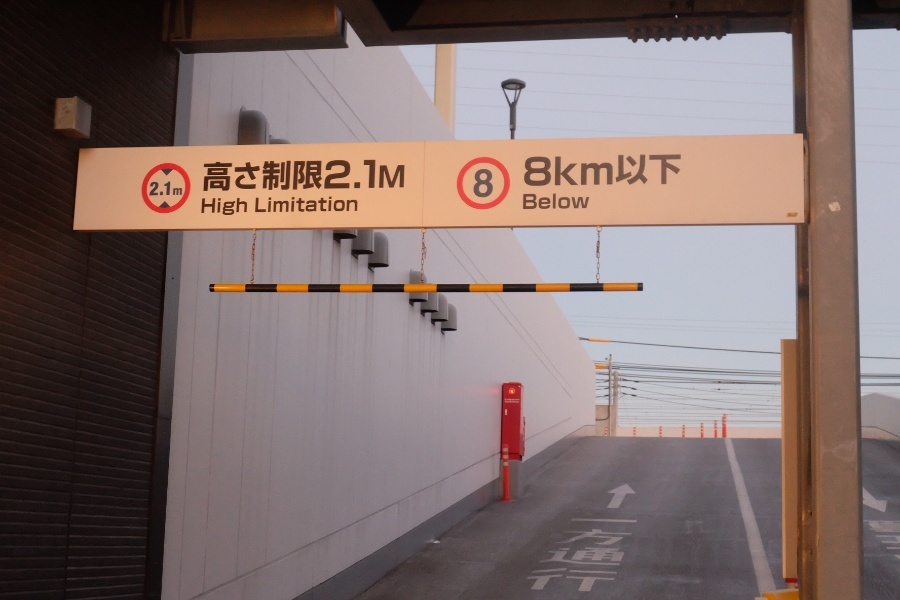text: (577, 518, 592, 596), (593, 518, 608, 596), (609, 518, 624, 596), (625, 518, 637, 596), (209, 159, 224, 193), (225, 159, 240, 193), (241, 159, 256, 193), (257, 159, 272, 193), (273, 159, 288, 193), (289, 159, 304, 193), (305, 159, 320, 193), (321, 159, 336, 193), (337, 159, 352, 193), (353, 159, 368, 193), (369, 159, 384, 193), (385, 159, 400, 193), (529, 154, 544, 188), (545, 154, 560, 188), (561, 154, 576, 188), (577, 154, 592, 188), (593, 154, 608, 188), (609, 154, 624, 188), (625, 154, 640, 188), (641, 154, 656, 188), (657, 154, 672, 188), (673, 154, 688, 188), (481, 169, 494, 201), (572, 518, 576, 596), (209, 198, 224, 217), (225, 198, 240, 217), (689, 154, 697, 188), (257, 197, 272, 214), (273, 197, 288, 214), (289, 197, 304, 214), (305, 197, 320, 214), (321, 197, 336, 214), (337, 197, 352, 214), (161, 181, 176, 197), (529, 194, 544, 210), (545, 194, 560, 210), (561, 194, 576, 210), (577, 194, 590, 210), (522, 154, 528, 188), (149, 181, 160, 197), (475, 169, 480, 201), (204, 159, 208, 193), (401, 159, 405, 193), (241, 198, 248, 217), (202, 198, 208, 217), (177, 181, 184, 197), (353, 197, 358, 214), (523, 194, 528, 210)
